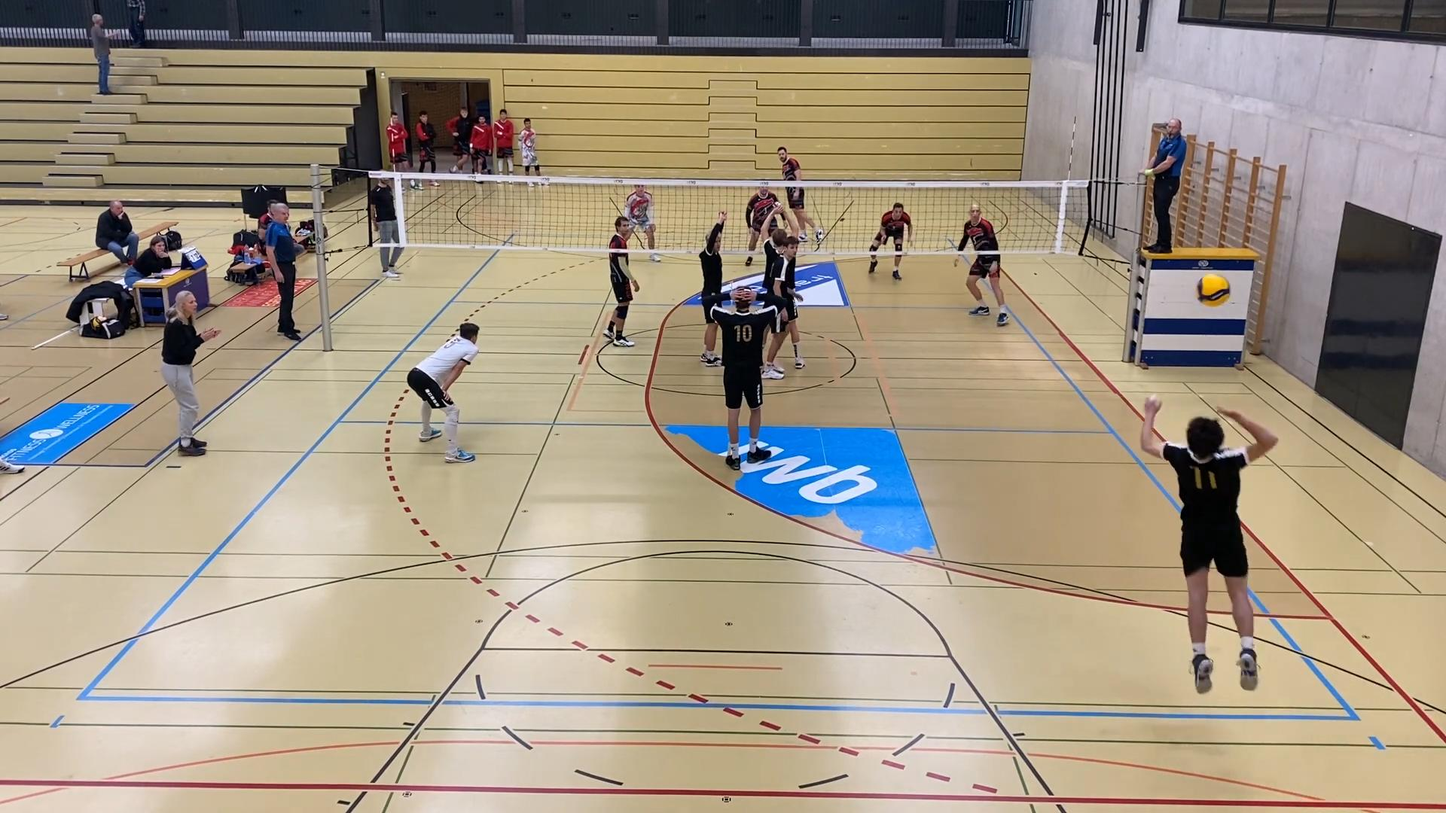Player: (704, 286, 782, 469), (407, 322, 478, 462), (958, 204, 1008, 326), (764, 236, 805, 368), (698, 211, 727, 366), (605, 217, 639, 346), (745, 186, 788, 265), (870, 202, 913, 279), (625, 184, 660, 261), (786, 187, 824, 242), (764, 227, 789, 276)
Serve: (1140, 400, 1293, 714)
ball: (1195, 274, 1229, 307)
